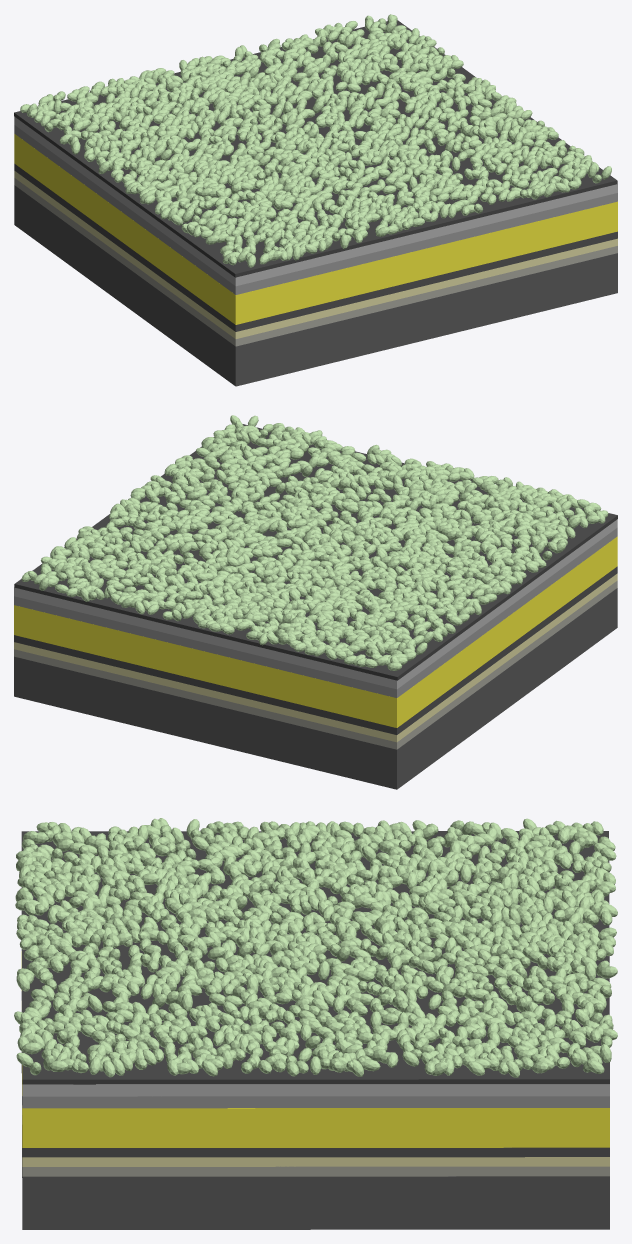
Rendered from roof-insulation.glb.
3 views of the same model, one above another, from view 1: azimuth 30°, elevation 25°; view 2: azimuth 150°, elevation 25°; view 3: azimuth 270°, elevation 25° (orthographic). The views are drawn at different scales.
Parts seen in each view (by area): view 1: 09, 01, 05, 08, 06, 07, 02, 03, 04; view 2: 09, 01, 05, 08, 06, 07, 02, 03, 04; view 3: 09, 01, 05, 08, 07, 06, 02, 04, 03.
Part boxes in pixels (x1,y1,x2,y2): 09: [20, 14, 611, 267]; 01: [14, 185, 617, 386]; 05: [14, 134, 617, 324]; 08: [14, 20, 617, 277]; 06: [14, 125, 617, 294]; 07: [14, 116, 617, 286]; 02: [14, 178, 617, 346]; 03: [14, 171, 617, 338]; 04: [14, 163, 617, 331]; 09: [21, 415, 608, 670]; 01: [14, 588, 617, 789]; 05: [14, 536, 617, 727]; 08: [14, 424, 617, 680]; 06: [14, 527, 617, 697]; 07: [14, 519, 617, 689]; 02: [14, 580, 617, 749]; 03: [14, 573, 617, 742]; 04: [14, 566, 617, 734]; 09: [14, 818, 617, 1077]; 01: [21, 1052, 609, 1229]; 05: [21, 951, 609, 1147]; 08: [21, 831, 609, 1084]; 07: [22, 1084, 609, 1096]; 06: [21, 949, 609, 1108]; 02: [21, 1010, 609, 1176]; 04: [21, 991, 609, 1157]; 03: [21, 1001, 609, 1166].
Bounding box in the file's own units: 1.51 × 0.4673 × 1.54.
